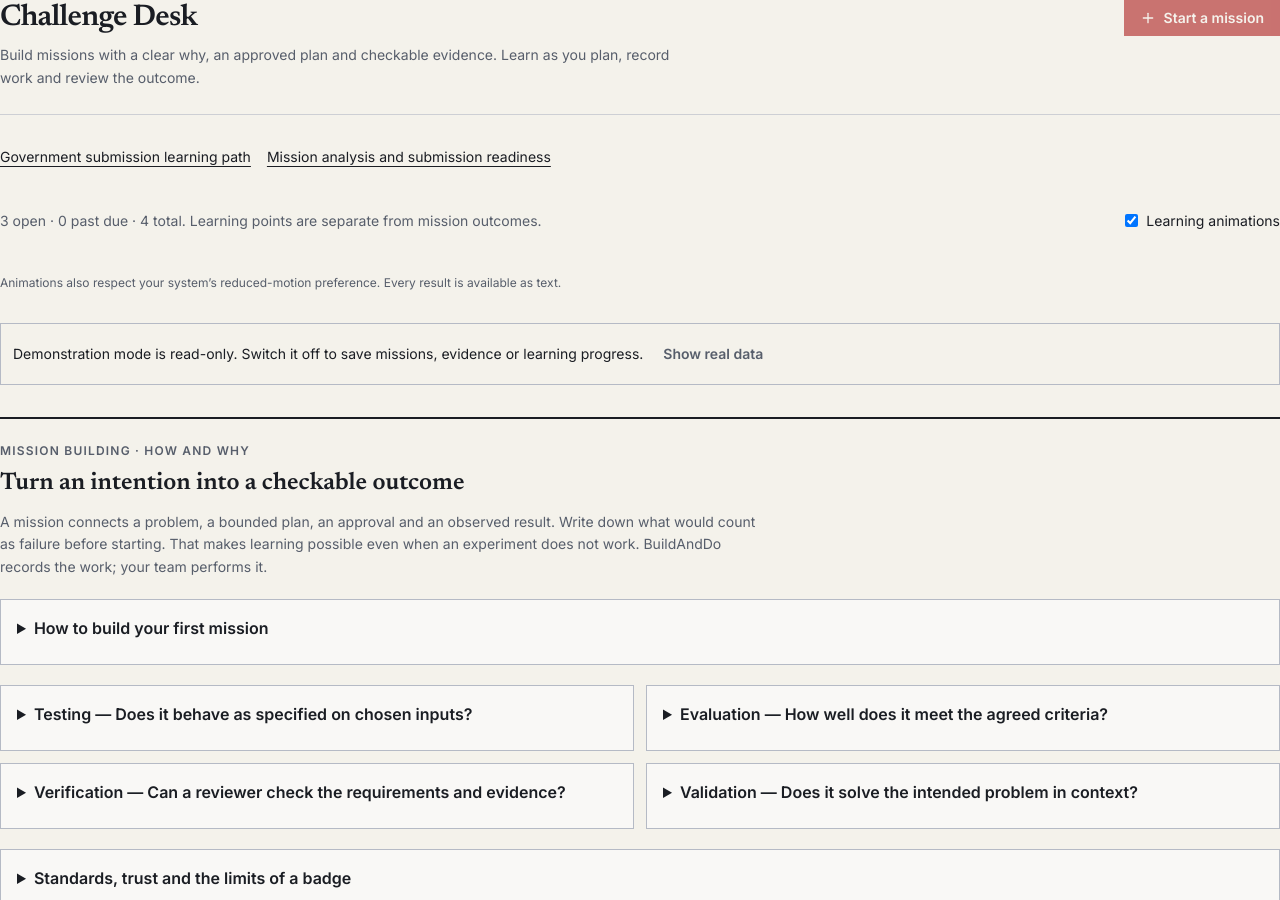
Test case: MissionsPage › keeps demo missions read-only while allowing a return to real workspace data
The width and height of the screenshot is (1280, 900).
expect the text "Demonstration mode is read-only" is shown: met, box [13, 344, 643, 362]
expect the button "Start a mission" is disabled: met, box [1124, 0, 1279, 36]
Step 1. Click the button "Show real data" → (713, 354), box [647, 336, 779, 372]
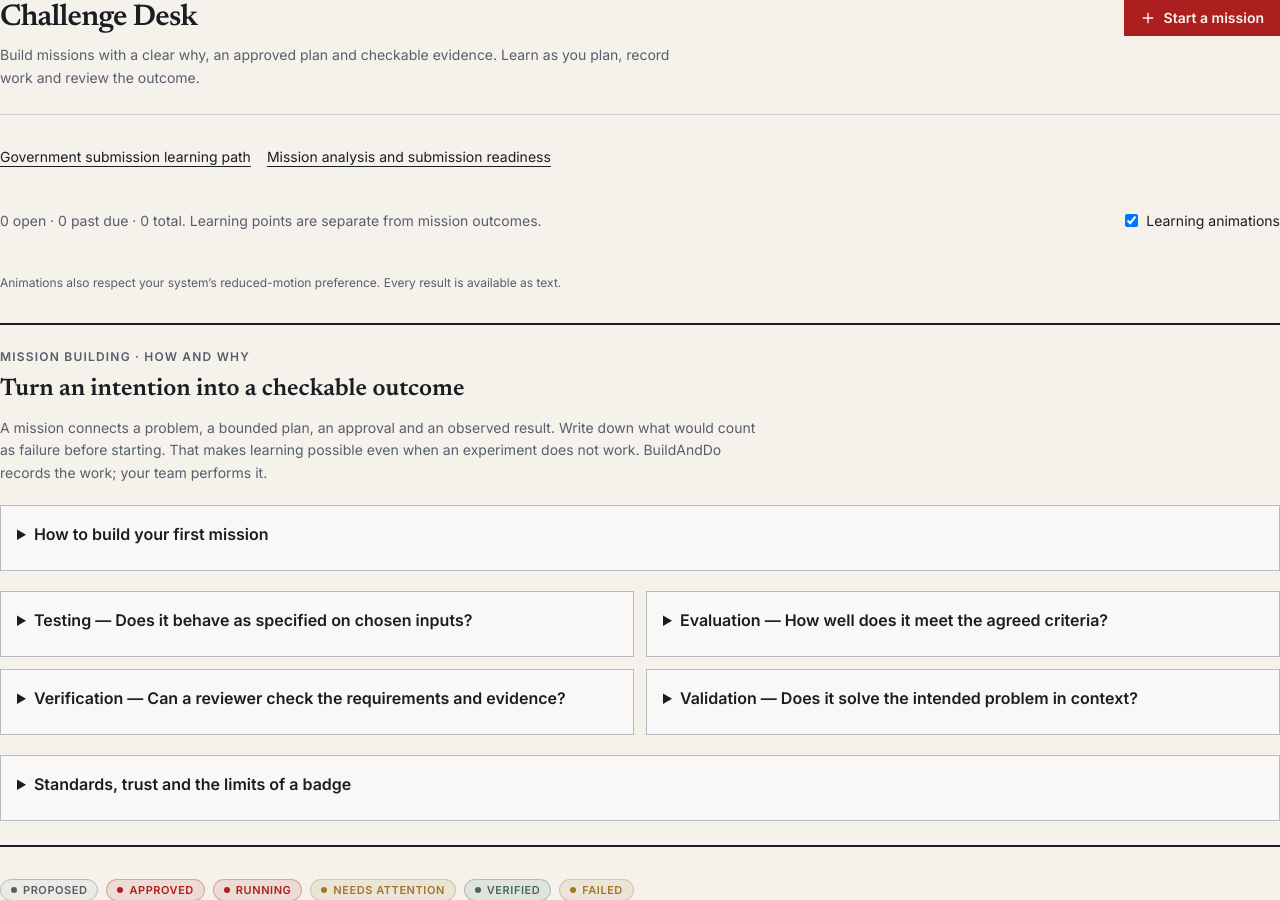
expect the button "Start a mission" is enabled: met, box [1124, 0, 1279, 36]
